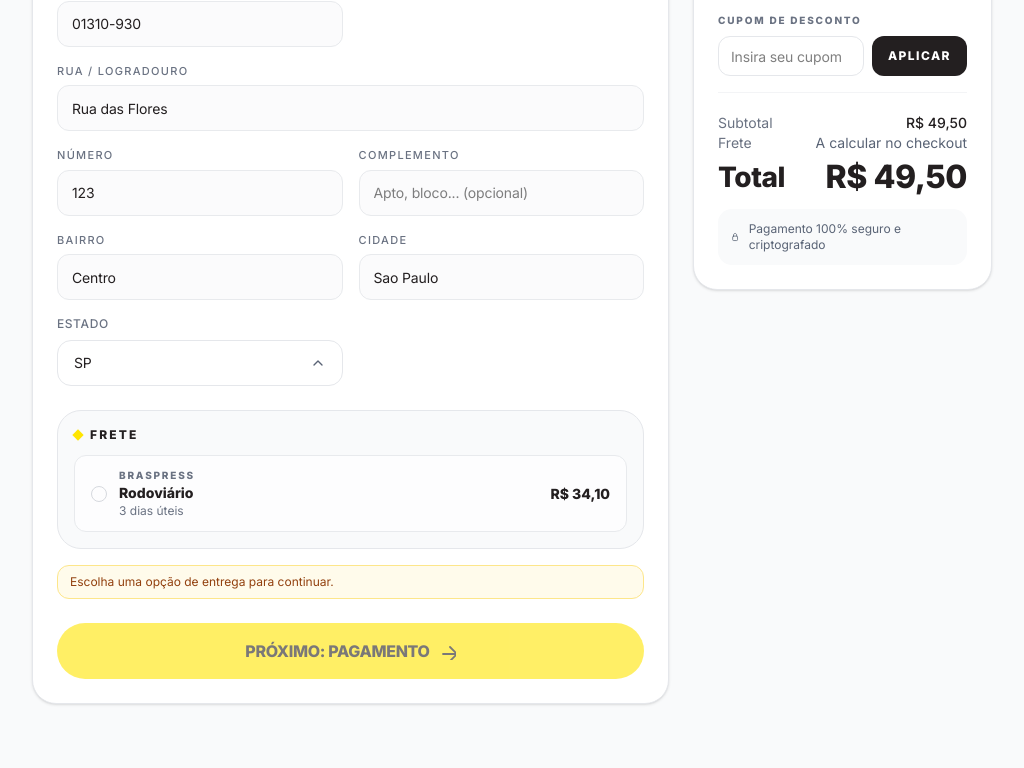
Test case: CheckoutAddressStepContent › lets the customer buy when only Braspress survived the quote
(page scrolled)
Click the radio button labelled "Braspress Rodoviário 3 dias úteis R$ 34,10": (157,475) [74,455,627,532]
(page scrolled)
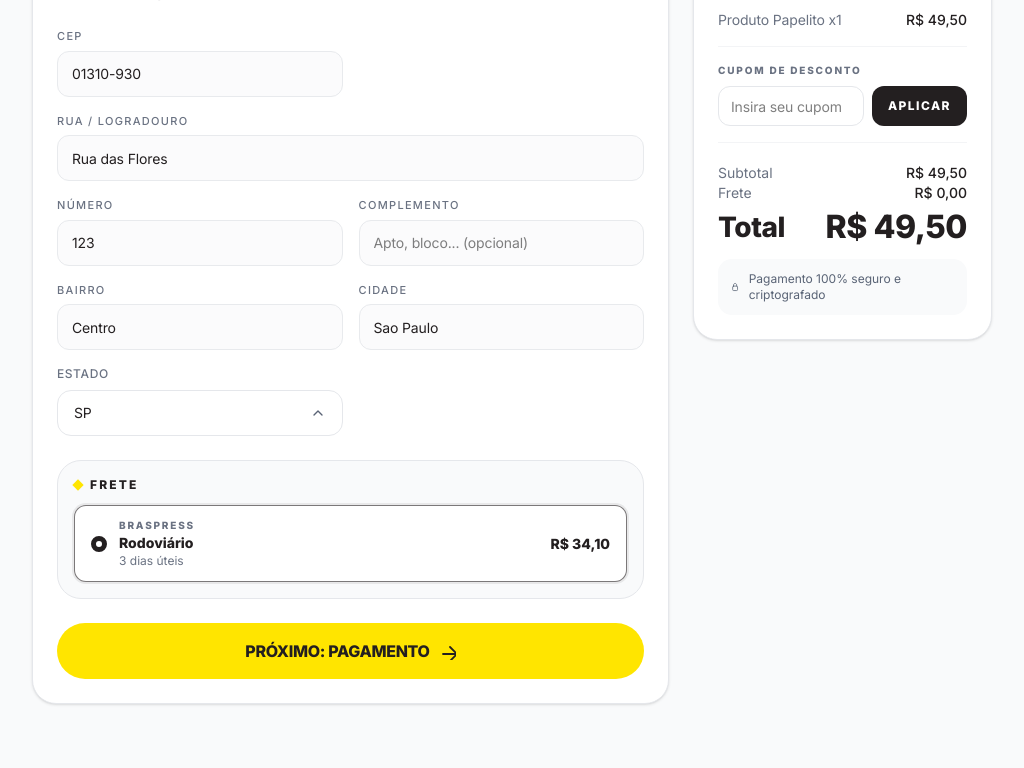
Result: the button "Próximo: Pagamento" is enabled at [57,623,644,679]
